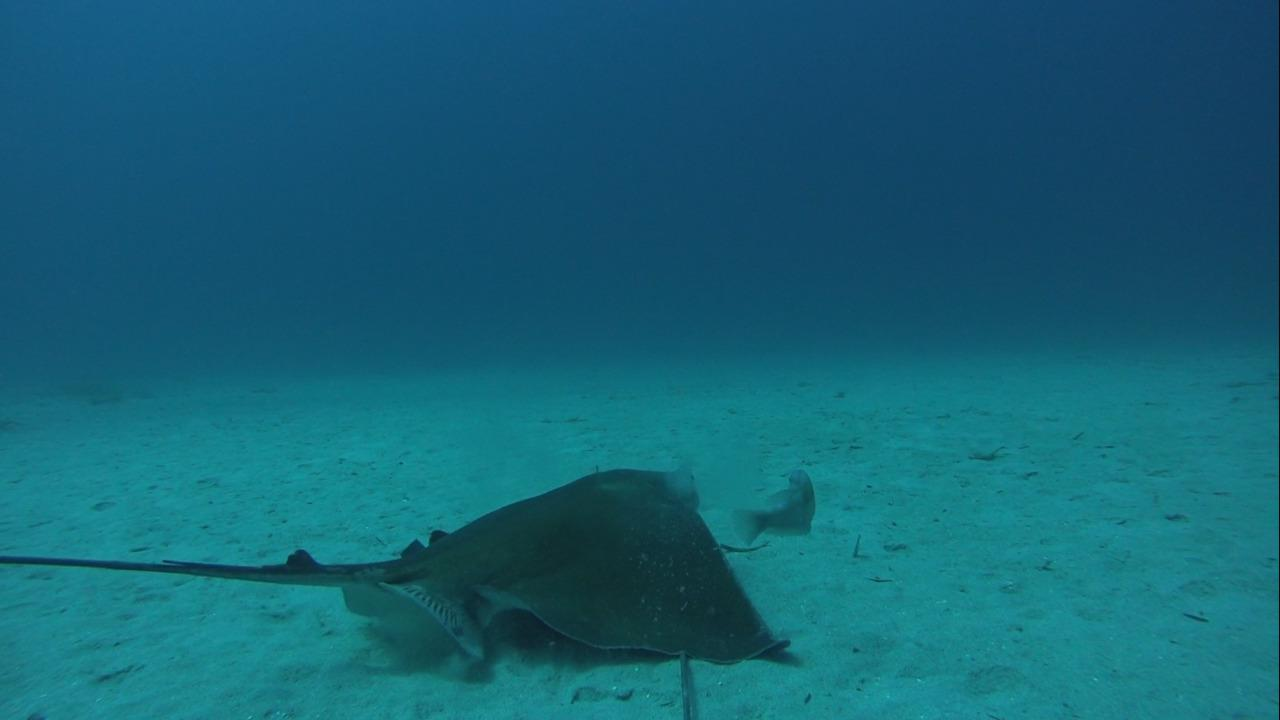myliobatis: (6, 463, 797, 682)
raor: (735, 467, 820, 553)
